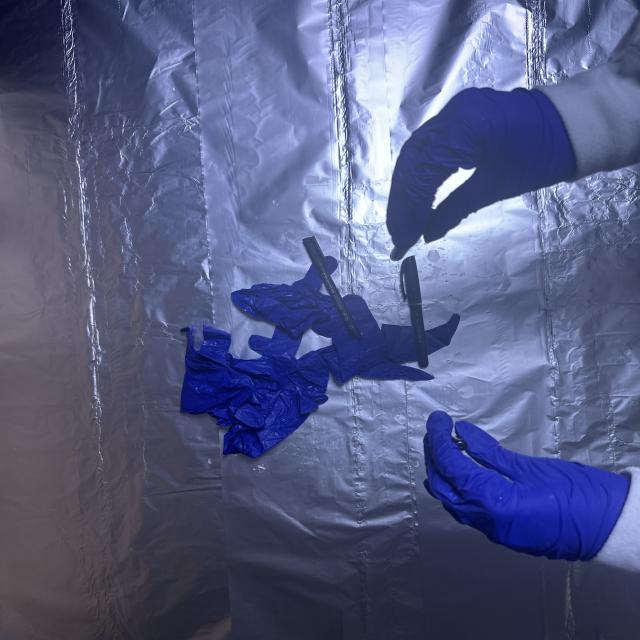gloves_contaminated: (424, 412, 630, 560), (387, 89, 576, 247)
